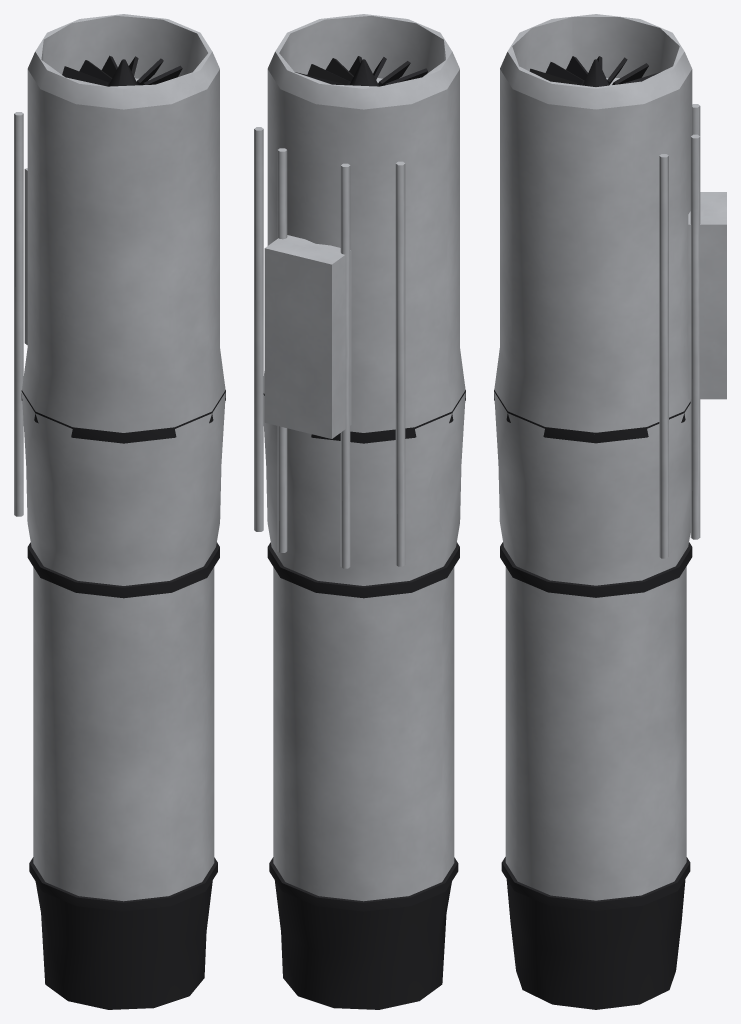
File: jet00_turbojet_ab.glb
3 renders of one model, left to right at view 1: azimuth 30°, elevation 25°; view 2: azimuth 150°, elevation 25°; view 3: azimuth 270°, elevation 25°, orthographic.
Parts seen in each view (by area): view 1: casing, nozzle, flanges, plumbing, spinner_vanes; view 2: casing, plumbing, nozzle, flanges, spinner_vanes; view 3: casing, nozzle, plumbing, flanges, spinner_vanes.
Part boxes in pixels (x1,y1,x2,y2): casing: (21,14,225,901); nozzle: (35,880,212,1009); flanges: (21,390,225,911); plumbing: (14,112,27,516); spinner_vanes: (62,55,182,86); casing: (263,14,465,901); plumbing: (254,127,405,568); nozzle: (275,881,451,1009); flanges: (263,390,465,911); spinner_vanes: (295,56,427,86); casing: (494,14,692,900); nozzle: (506,879,685,1009); plumbing: (659,104,726,558); flanges: (494,390,692,910); spinner_vanes: (529,56,660,86).
Size of the model in its own units: 1.06 by 5.3 by 1.21.
Materials: 3 (2 with a texture image).
